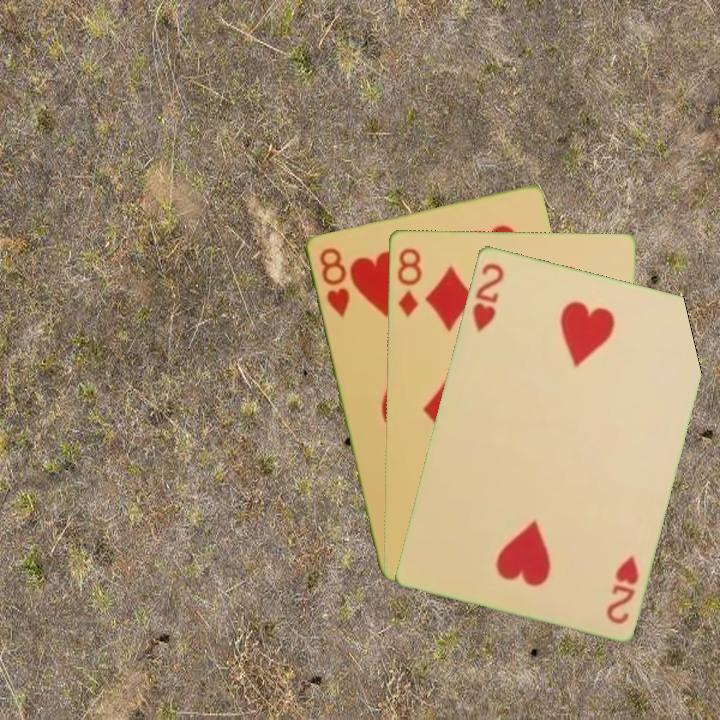2h: (602, 552, 642, 627), (468, 259, 507, 335)
8d: (393, 245, 424, 320)
8h: (315, 243, 353, 320)
